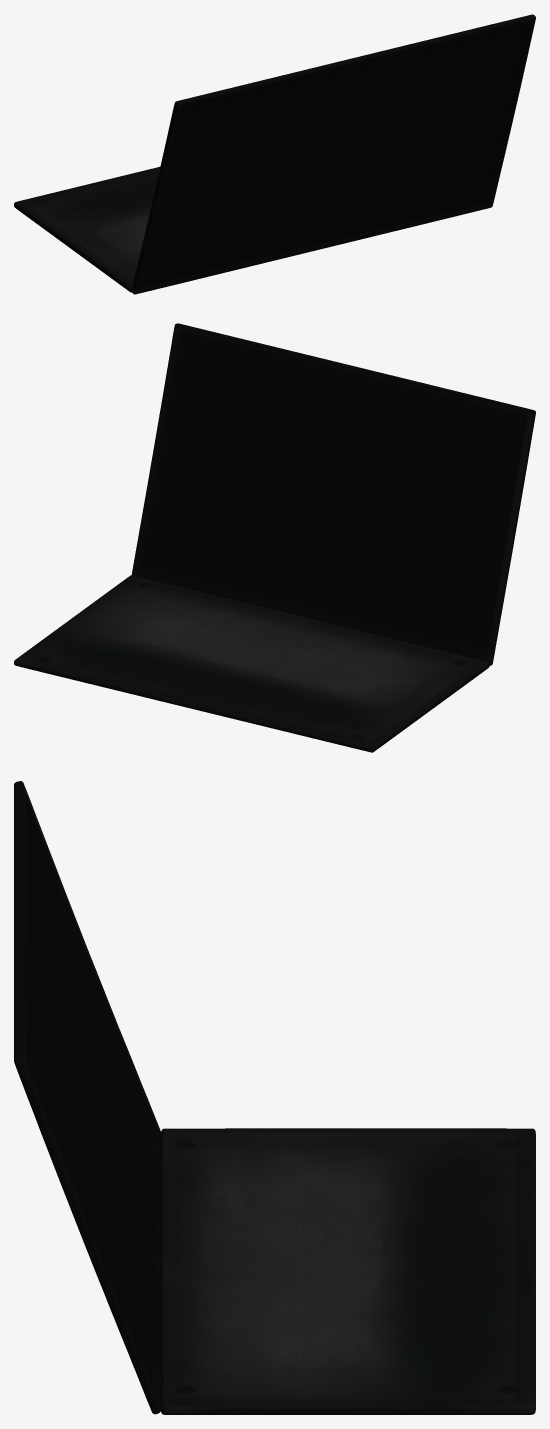
Rendered from wall-tv.glb.
3 renders of one model, top to bottom at view 1: azimuth 30°, elevation 25°; view 2: azimuth 150°, elevation 25°; view 3: azimuth 270°, elevation 25°, orthographic. The views are drawn at different scales.
Visible parts, largest first — view 1: material; view 2: material; view 3: material.
Part boxes in pixels (<box>): material: <box>14,14,535,294</box>; material: <box>14,323,535,752</box>; material: <box>14,781,535,1414</box>.
Bounding box in the file's own units: 0.8577 × 0.5116 × 0.6772.
Materials: 1 (1 with a texture image).
